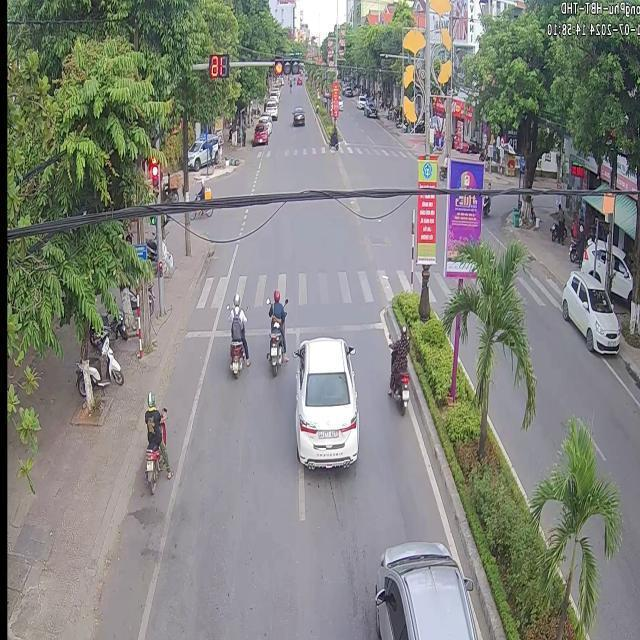car: (373, 540, 474, 638), (292, 336, 357, 467), (559, 269, 618, 351)
motobike: (143, 389, 172, 490), (226, 302, 248, 376), (266, 316, 282, 374), (390, 367, 408, 412)
red_light: (207, 53, 229, 76), (150, 155, 159, 200), (273, 60, 302, 72)
stop_line: (296, 320, 382, 331), (186, 329, 209, 336), (246, 327, 267, 334), (213, 327, 228, 336), (284, 325, 296, 334)
